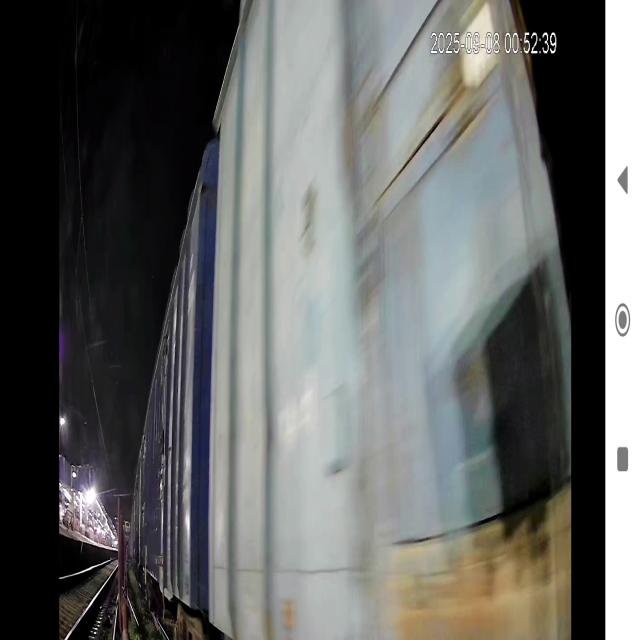coach: (212, 6, 556, 640)
